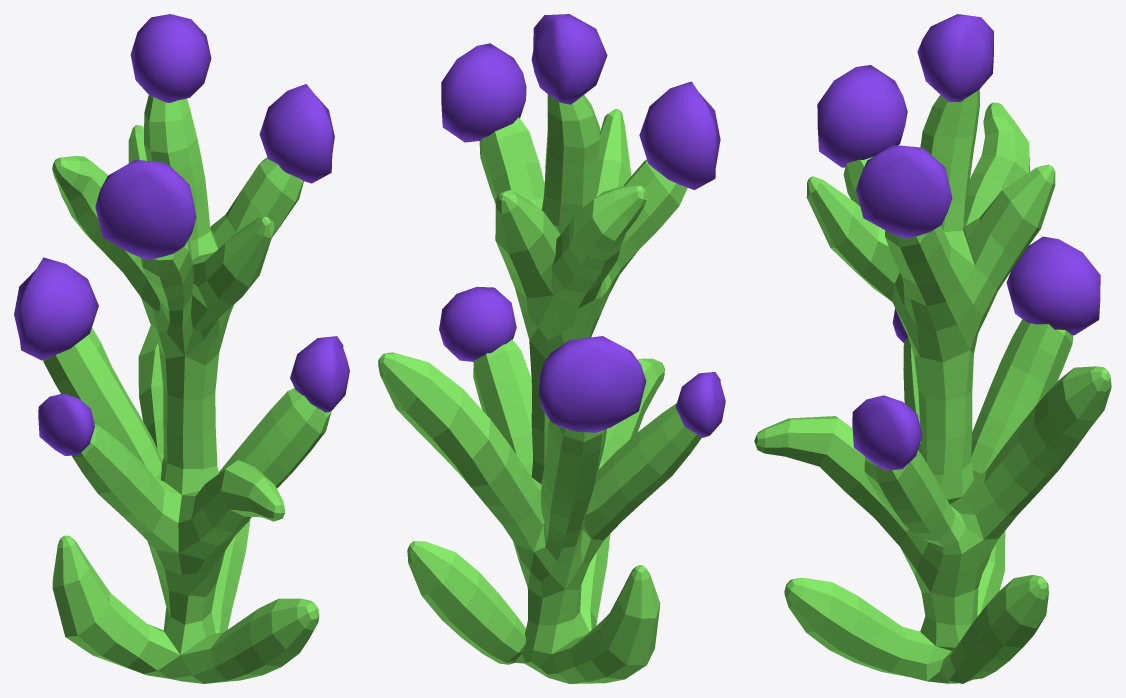
File: monkshood_variant2.fbx
3 views of the same model, side by side, from view 1: azimuth 30°, elevation 25°; view 2: azimuth 150°, elevation 25°; view 3: azimuth 270°, elevation 25° (orthographic). The views are drawn at different scales.
Visible parts, largest first — view 1: Vert, Icosphere.003, Icosphere.005, Icosphere, Icosphere.002, Icosphere.004, Icosphere.006; view 2: Vert, Icosphere.005, Icosphere.002, Icosphere.003, Icosphere, Icosphere.004, Icosphere.006; view 3: Vert, Icosphere.003, Icosphere.005, Icosphere.002, Icosphere, Icosphere.004.
Part boxes in pixels (left/top/right/bottom): Vert: left=43, top=95, right=331, bottom=683; Icosphere.003: left=95, top=159, right=196, bottom=259; Icosphere.005: left=14, top=257, right=98, bottom=360; Icosphere: left=130, top=14, right=211, bottom=102; Icosphere.002: left=259, top=84, right=334, bottom=183; Icosphere.004: left=290, top=336, right=349, bottom=412; Icosphere.006: left=38, top=393, right=94, bottom=455; Vert: left=378, top=94, right=701, bottom=683; Icosphere.005: left=538, top=336, right=646, bottom=432; Icosphere.002: left=441, top=43, right=526, bottom=142; Icosphere.003: left=639, top=81, right=720, bottom=189; Icosphere: left=531, top=14, right=607, bottom=104; Icosphere.004: left=439, top=286, right=516, bottom=361; Icosphere.006: left=675, top=372, right=725, bottom=437; Vert: left=754, top=89, right=1111, bottom=683; Icosphere.003: left=817, top=65, right=907, bottom=167; Icosphere.005: left=1006, top=236, right=1100, bottom=335; Icosphere.002: left=856, top=145, right=952, bottom=238; Icosphere: left=917, top=14, right=993, bottom=102; Icosphere.004: left=852, top=395, right=922, bottom=470.
Bounding box in the file's own units: 44.17 × 97.2 × 48.05.
